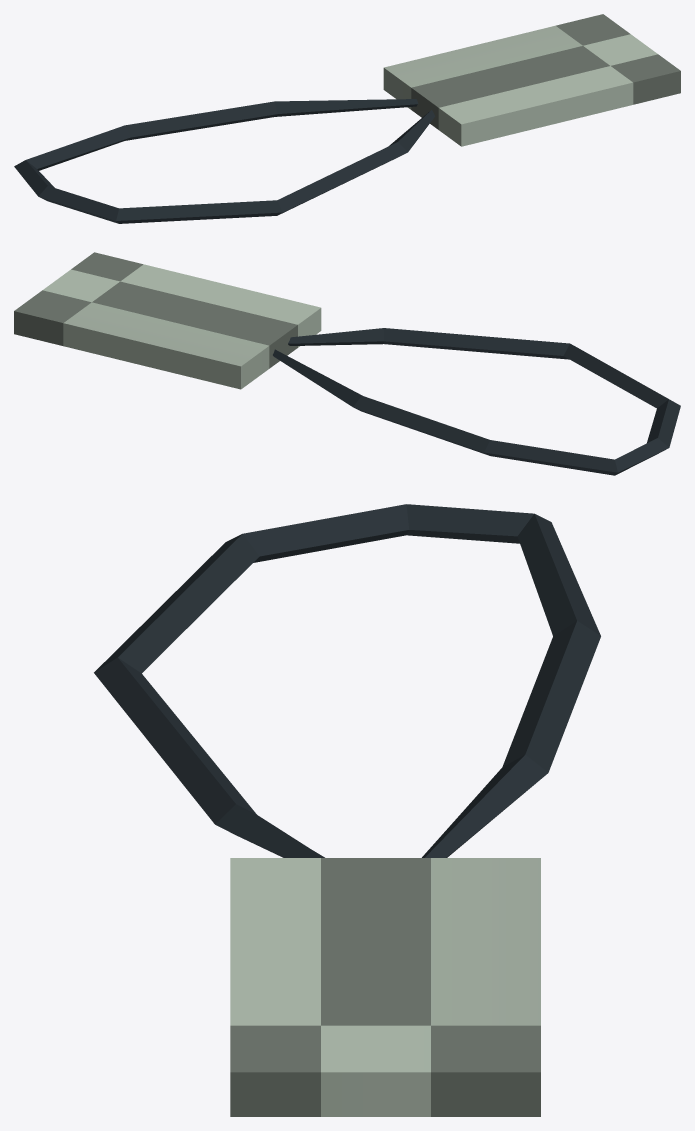
The model's file is SK_VisitorCard.fbx.
The picture shows the model from 3 angles, top to bottom: view 1: azimuth 30°, elevation 25°; view 2: azimuth 150°, elevation 25°; view 3: azimuth 270°, elevation 25°; orthographic projection. The views are drawn at different scales.
Parts seen in each view (by area): view 1: SKAcreditación; view 2: SKAcreditación; view 3: SKAcreditación.
Boxes of the visible parts, x1,y1,x2,y2 form: SKAcreditación: (14,14,680,223); SKAcreditación: (14,252,680,475); SKAcreditación: (94,504,600,1116).
Bounding box in the file's own units: 44.1 × 1.57 × 16.17.
